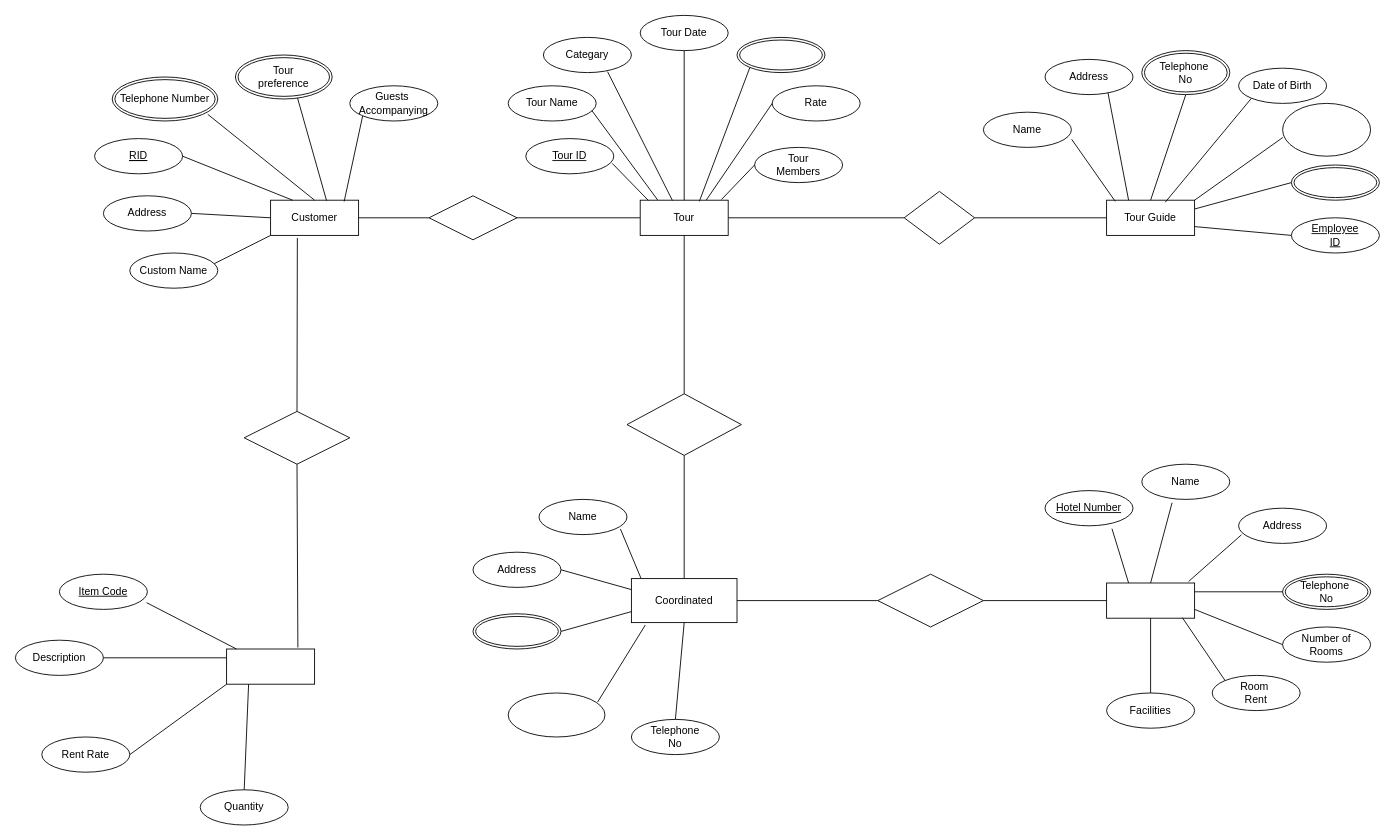
The diagram is 1395 pixels wide and 840 high, and some of its shapes have lost their labels. The box of each missing label's shape, as (x1, y1, x2, y2) in pixels:
books: (428, 195, 517, 240)
Coodinated ID: (507, 692, 605, 737)
Coordinated by: (626, 393, 741, 455)
Employee start Date: (1282, 103, 1371, 156)
Entity: (226, 648, 315, 684)
has: (903, 191, 975, 244)
Hotel: (1106, 582, 1195, 618)
Qualifications: (472, 613, 561, 649)
Relationship: (243, 411, 350, 464)
Reservation: (877, 573, 983, 627)
Special Training: (1291, 164, 1379, 200)
Tour location: (736, 37, 825, 73)
